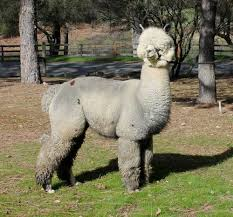alpaca: (35, 23, 177, 194)
